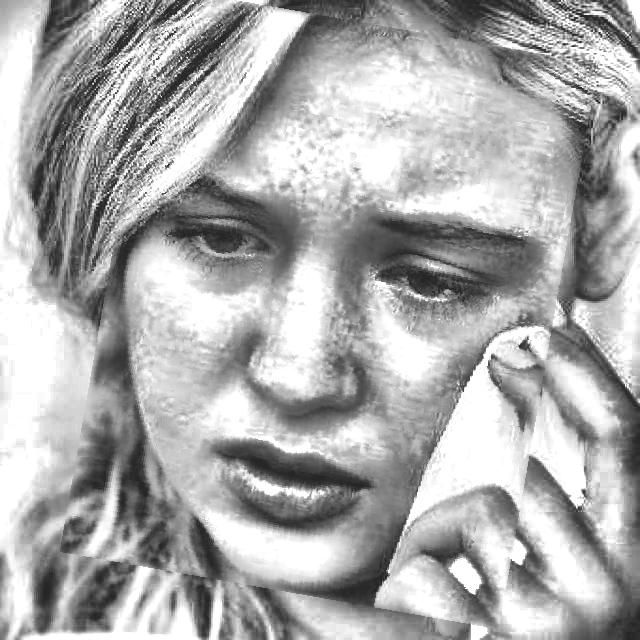sad: (83, 4, 575, 612)
